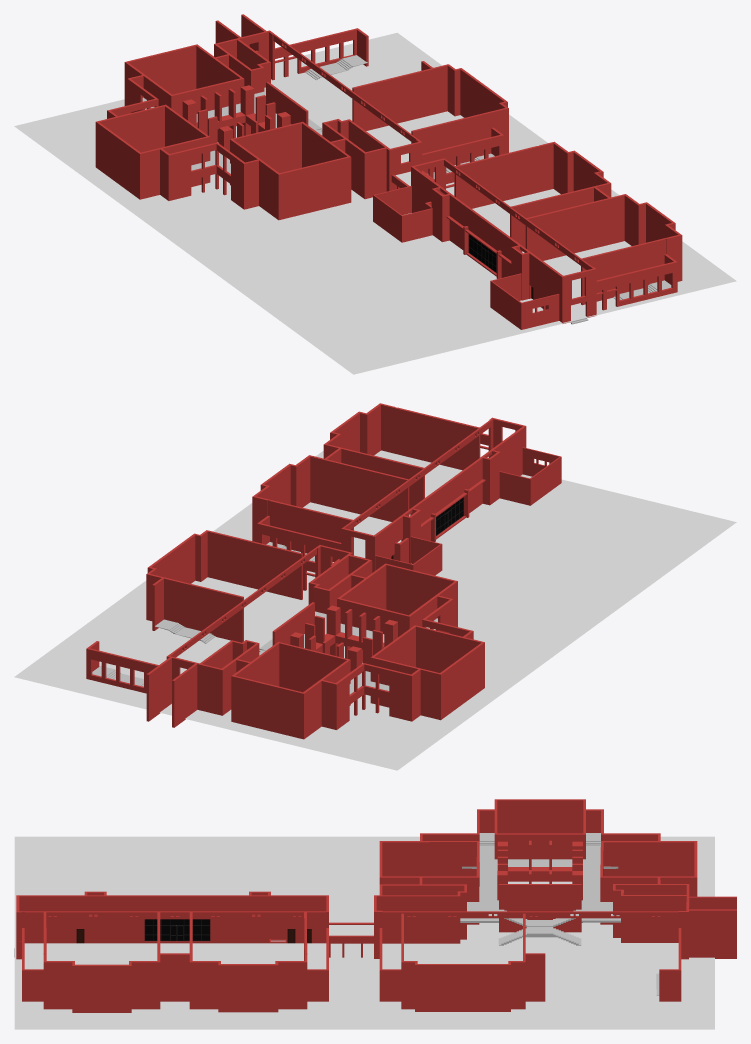
3 renders of one model, top to bottom at view 1: azimuth 30°, elevation 25°; view 2: azimuth 150°, elevation 25°; view 3: azimuth 270°, elevation 25°, orthographic. The views are drawn at different scales.
Visible parts, largest first — view 1: Plane.001, lt2, lt9.001, lt9.002, Cube.027, lt9.006, lt9.010, lt2.004, Cube.024, lt2.005; view 2: Plane.001, lt2, lt9.001, lt9.002, Cube.027, lt9.006, lt9.010, lt2.004, Cube.023, lt2.005; view 3: Plane.001, lt2, lt9.001, lt2.005, lt2.004, lt9.006, lt9.010, Cube.027, Screenshot (5422), Stairs.019, Plane, Stairs.020.
Part boxes in pixels (x1,y1,x2,y2): Plane.001: [14, 32, 736, 374]; lt2: [95, 14, 508, 220]; lt9.001: [411, 141, 682, 323]; lt9.002: [373, 186, 559, 329]; Cube.027: [182, 85, 290, 154]; lt9.006: [444, 159, 591, 269]; lt9.010: [273, 34, 417, 142]; lt2.004: [266, 81, 308, 124]; Cube.024: [200, 88, 235, 142]; lt2.005: [191, 87, 322, 173]; Plane.001: [14, 450, 736, 770]; lt2: [86, 530, 484, 739]; lt9.001: [252, 403, 526, 572]; lt9.002: [375, 447, 561, 575]; Cube.027: [290, 605, 397, 675]; lt9.006: [343, 421, 490, 529]; lt9.010: [172, 548, 316, 657]; lt2.004: [272, 602, 314, 645]; Cube.023: [345, 609, 380, 662]; lt2.005: [259, 611, 389, 694]; Plane.001: [14, 836, 714, 1029]; lt2: [329, 799, 736, 1011]; lt9.001: [16, 891, 328, 1012]; lt2.005: [460, 845, 620, 922]; lt2.004: [499, 884, 581, 932]; lt9.006: [24, 911, 326, 918]; lt9.010: [382, 911, 678, 918]; Cube.027: [497, 841, 582, 922]; Screenshot (5422): [144, 919, 210, 941]; Stairs.019: [498, 927, 581, 945]; Plane: [329, 925, 373, 935]; Stairs.020: [499, 909, 581, 926].
Size of the model in its own units: 5998 by 9498 by 749.
